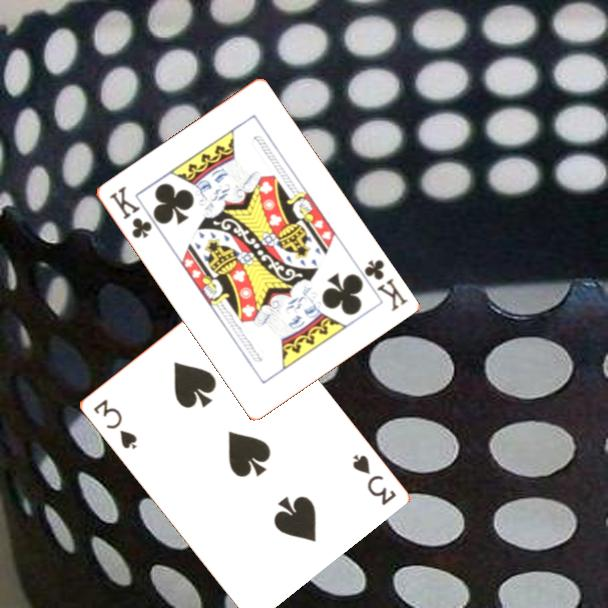c13: (105, 182, 155, 241), (360, 256, 410, 314)
s03: (348, 451, 399, 509), (89, 395, 139, 452)
